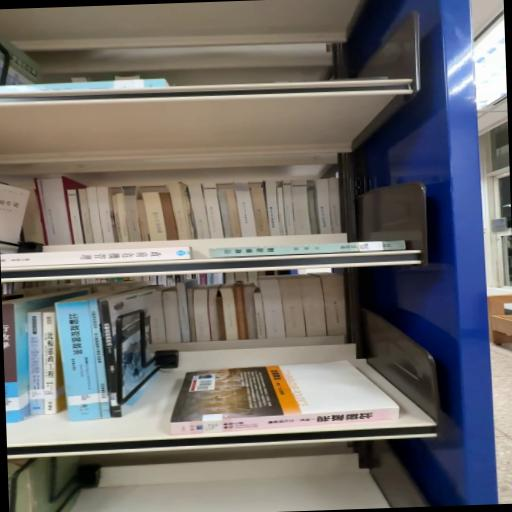flat: (171, 361, 400, 435), (210, 241, 406, 259)
